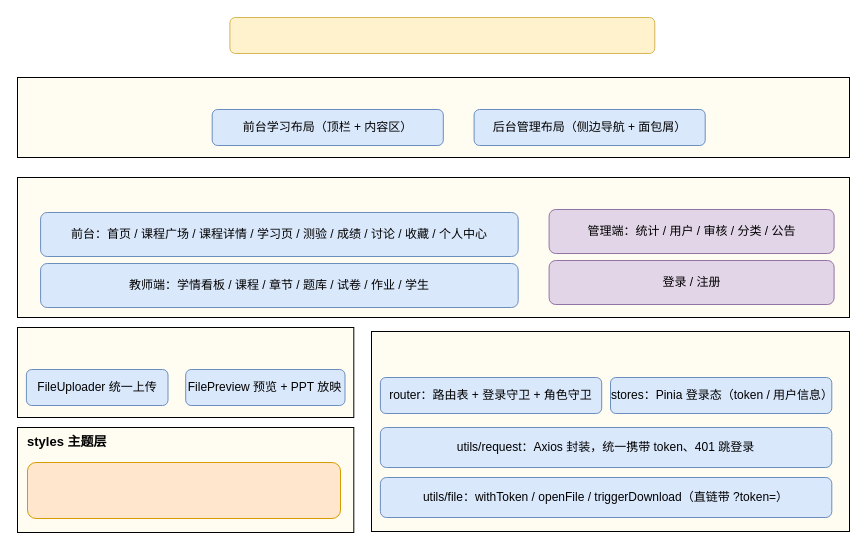
Some shapes in this 867 by 550 pixel diagram are drawn without their labels. The shapes that lost their labels are listed below. From the top down, each one's box as (x1, y1, x2, y2) in pixels, then its label:
(229, 16, 655, 54): main.ts 入口 → createApp → 挂载 App.vue
(16, 76, 850, 158): layouts 布局层
(16, 176, 850, 318): views 页面层（24 个页面组件）
(16, 326, 354, 418): components 通用组件
(370, 330, 850, 532): 支撑层
(26, 462, 340, 518): theme.css 设计令牌单一来源：暖米白底 #fdf7f1 + 主橙 #ff6b35，页面禁写裸色值；弹窗一律 append-to-body
